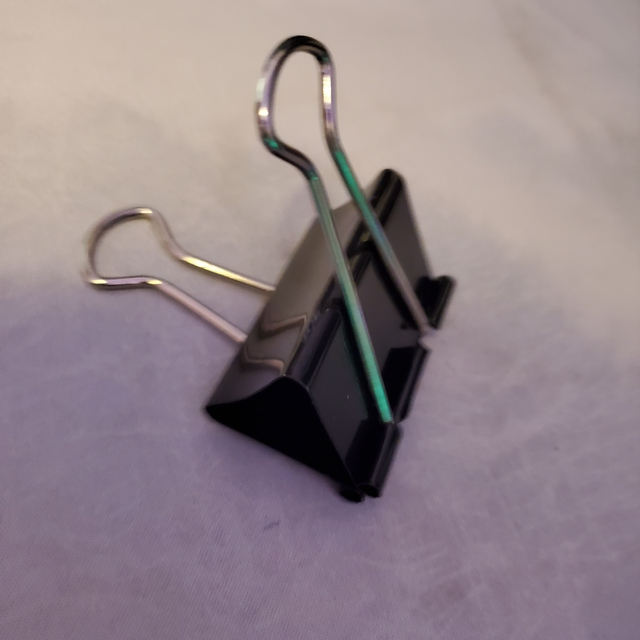clip: (75, 38, 456, 508)
